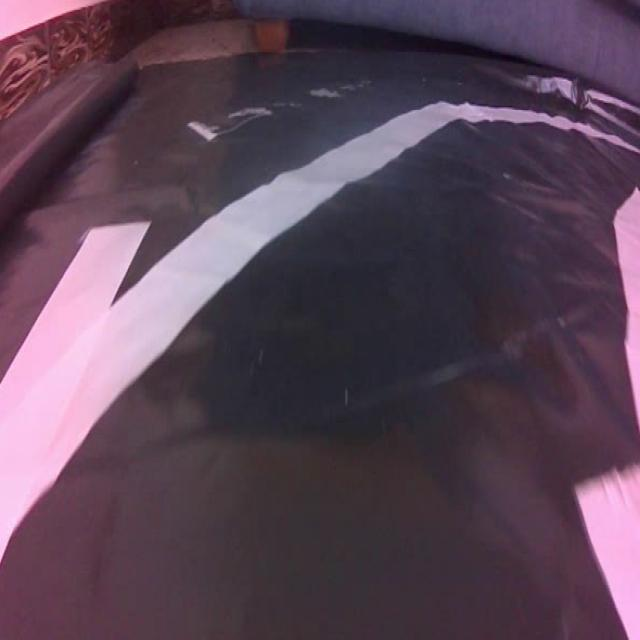LineaCarril: (0, 102, 640, 566), (575, 468, 640, 640)
